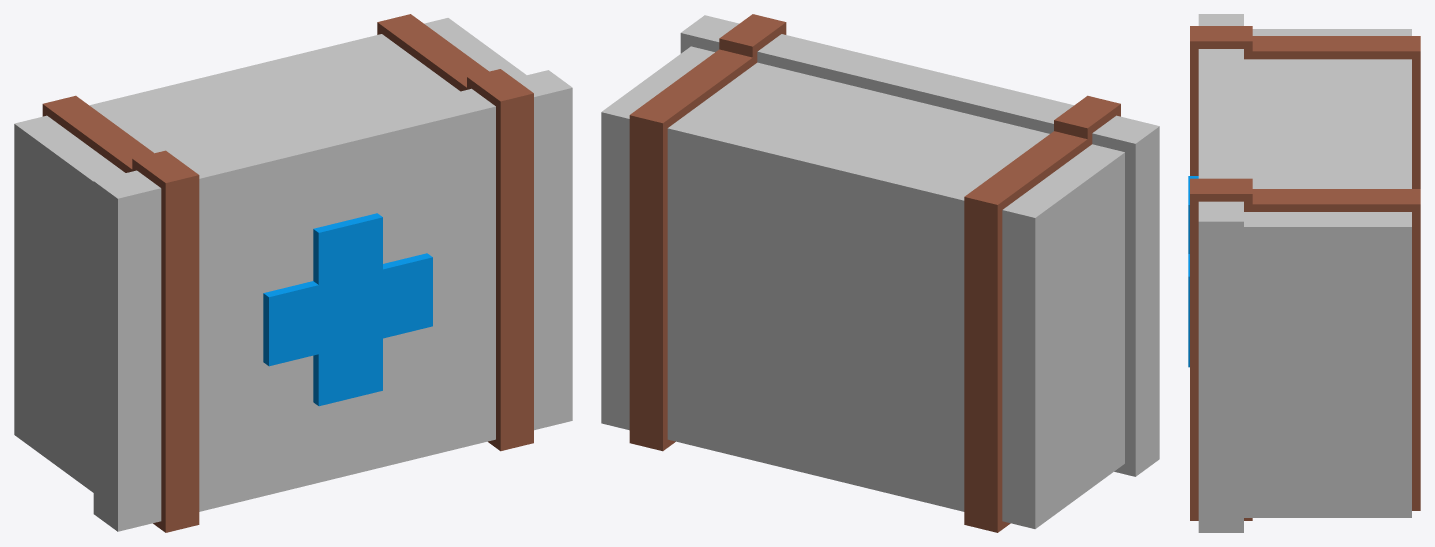
File: heealtkit.fbx
3 renders of one model, left to right at view 1: azimuth 30°, elevation 25°; view 2: azimuth 150°, elevation 25°; view 3: azimuth 270°, elevation 25°, orthographic. The views are drawn at different scales.
Parts seen in each view (by area): view 1: Cube; view 2: Cube; view 3: Cube.
Part boxes in pixels (x1,y1,x2,y2): Cube: (14, 14, 572, 532); Cube: (601, 14, 1159, 532); Cube: (1188, 14, 1420, 532).
Bounding box in the file's own units: 130 × 95.8 × 61.7.
1 material, 1 textured.
